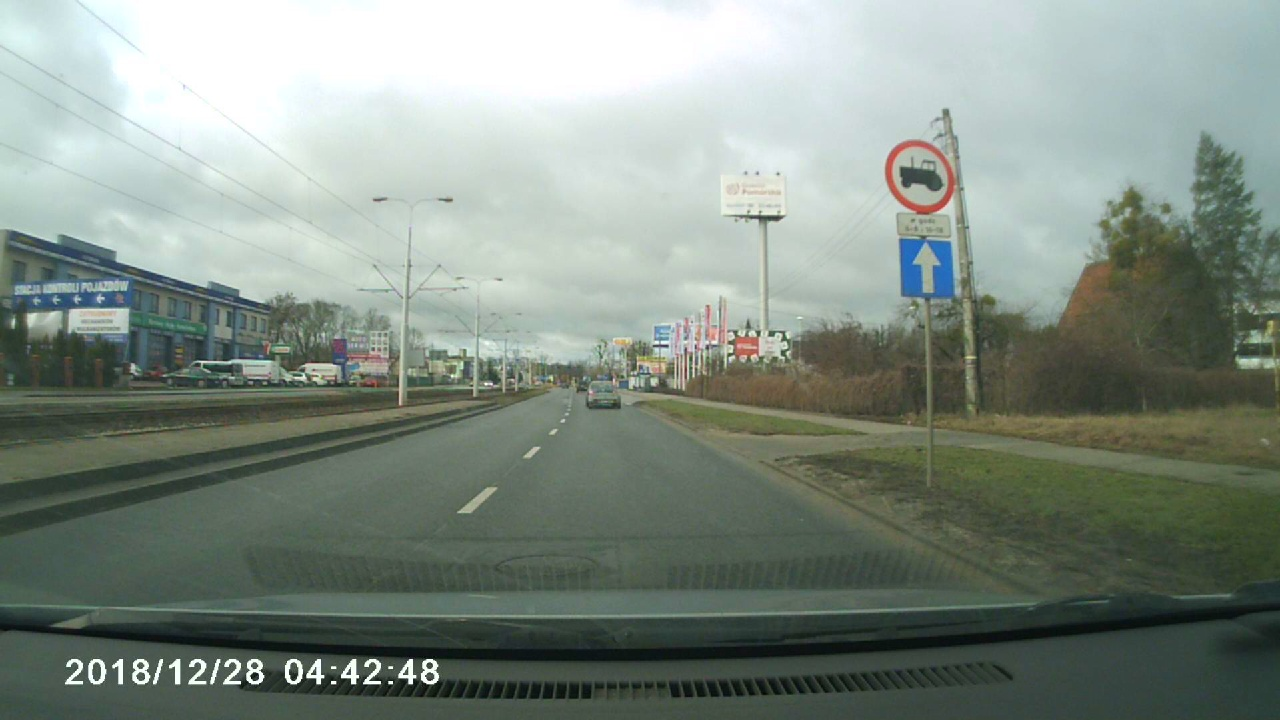D3: (896, 236, 961, 301)
